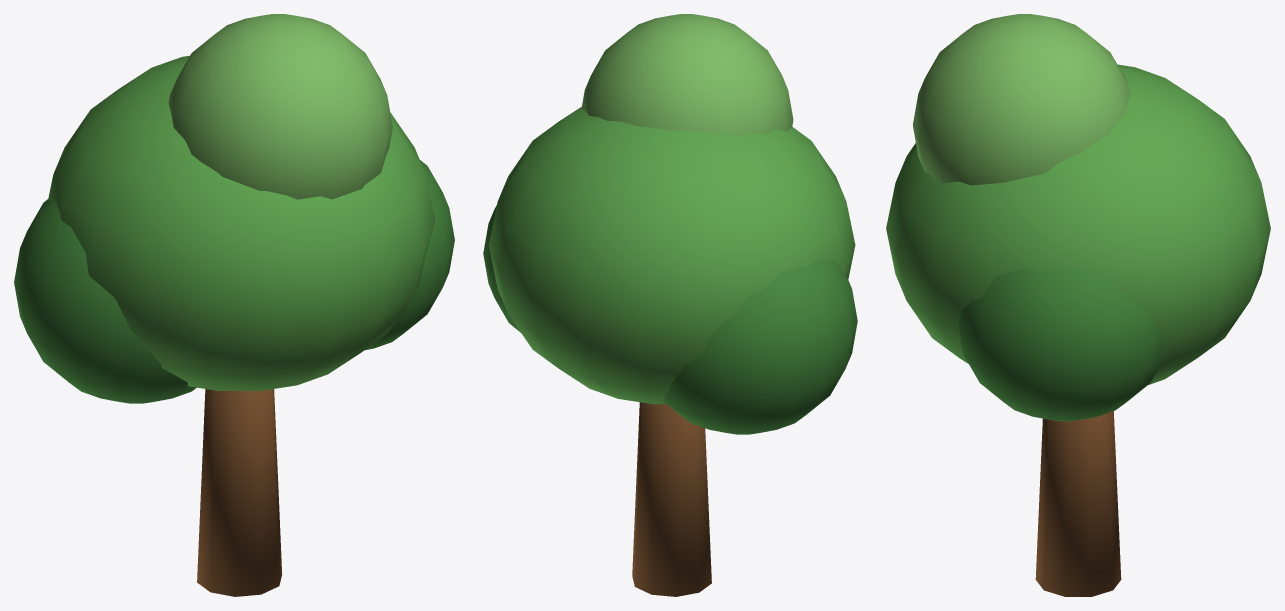
The model's file is prop_tree.glb.
The picture shows the model from 3 angles, left to right: view 1: azimuth 30°, elevation 25°; view 2: azimuth 150°, elevation 25°; view 3: azimuth 270°, elevation 25°; orthographic projection. The views are drawn at different scales.
Visible parts, largest first — view 1: SK_prop_tree; view 2: SK_prop_tree; view 3: SK_prop_tree.
Part boxes in pixels (x1,y1,x2,y2): SK_prop_tree: (14,14,454,596); SK_prop_tree: (483,14,857,596); SK_prop_tree: (886,14,1270,596).
Bounding box in the file's own units: 1.64 × 2.32 × 1.44.
